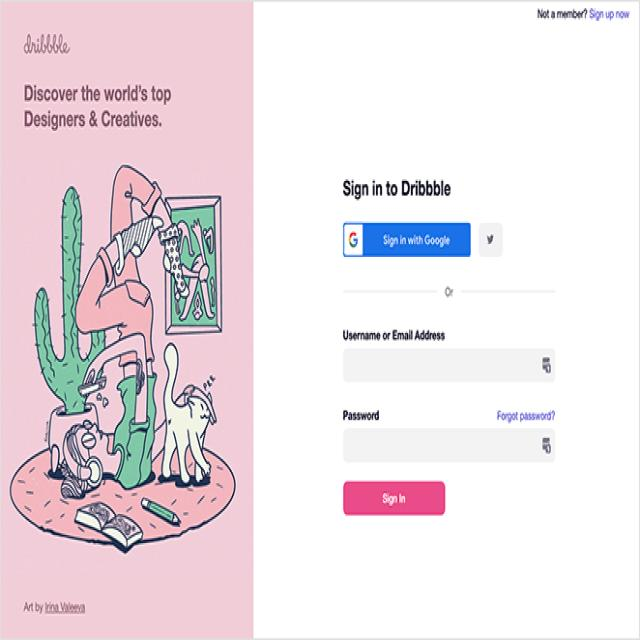Button: (341, 218, 473, 264), (339, 479, 452, 522), (477, 214, 506, 261)
Image: (7, 155, 240, 565)
Input-field: (342, 323, 558, 390), (342, 407, 560, 463)
Text: (17, 30, 198, 150), (339, 174, 487, 207), (533, 2, 629, 33), (22, 596, 91, 618)
